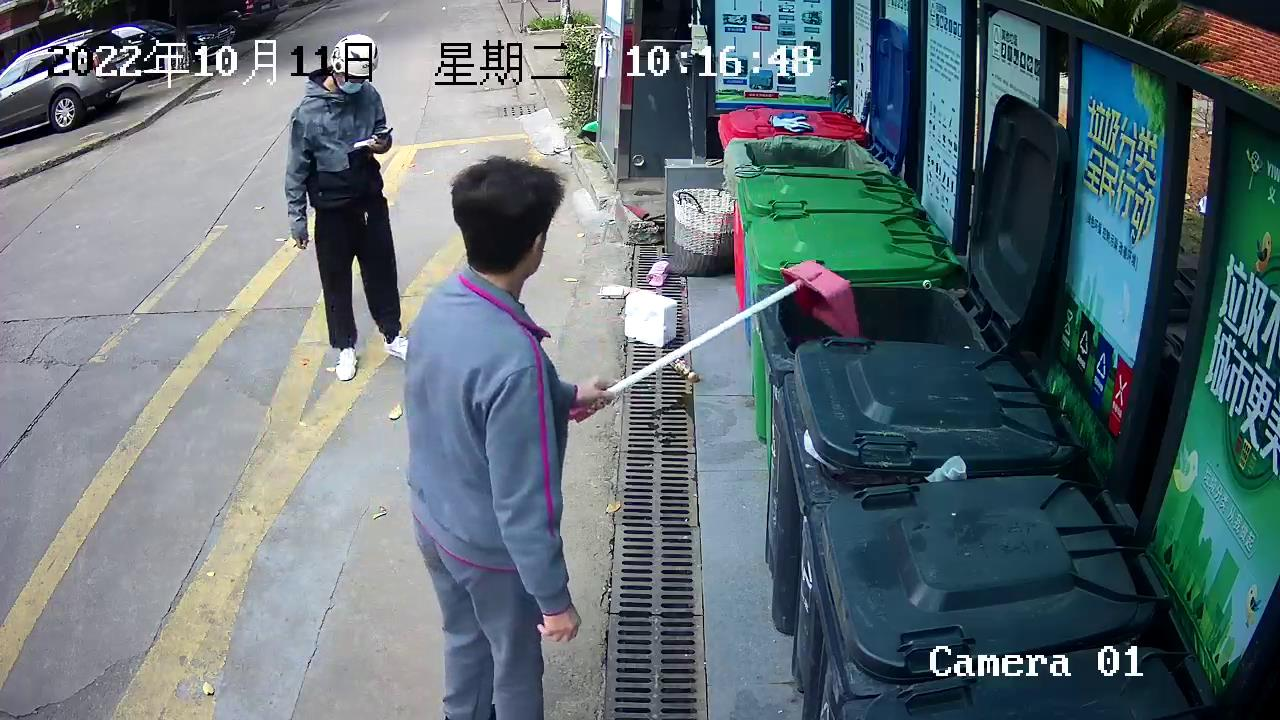person: (396, 151, 622, 720), (278, 29, 415, 388)
suliaozhipin: (664, 350, 707, 390), (641, 256, 673, 290)
zhizhipin: (622, 286, 680, 350)
